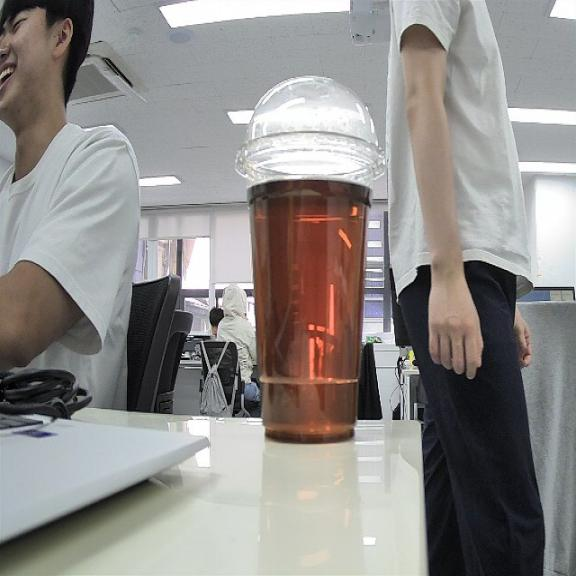Plastik: (235, 78, 385, 440)
